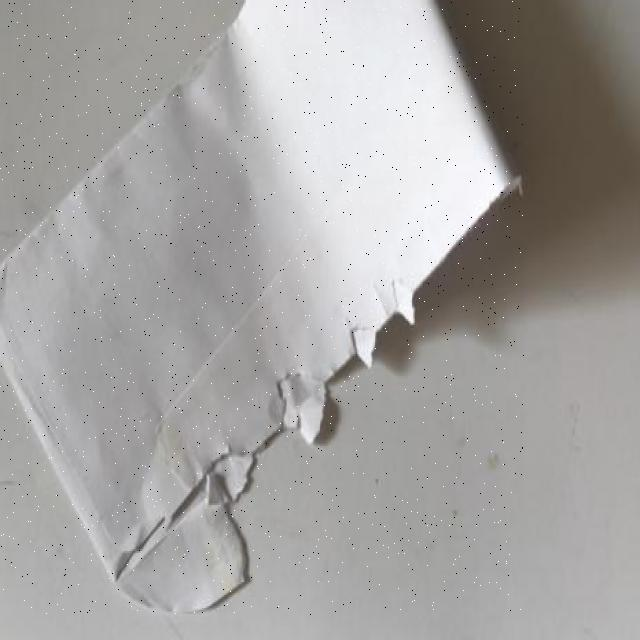paper: (0, 1, 524, 614)
